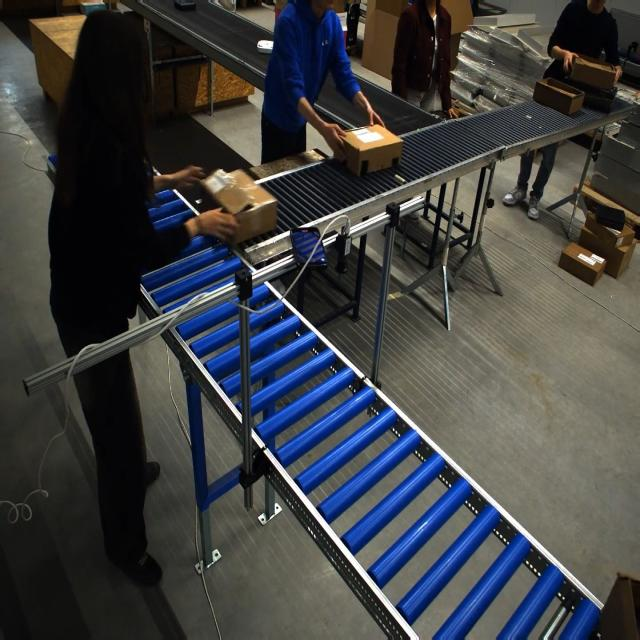box: (200, 167, 278, 242), (341, 125, 397, 176), (532, 77, 584, 116), (174, 60, 205, 116), (152, 64, 175, 119)
product: (174, 0, 197, 11)
